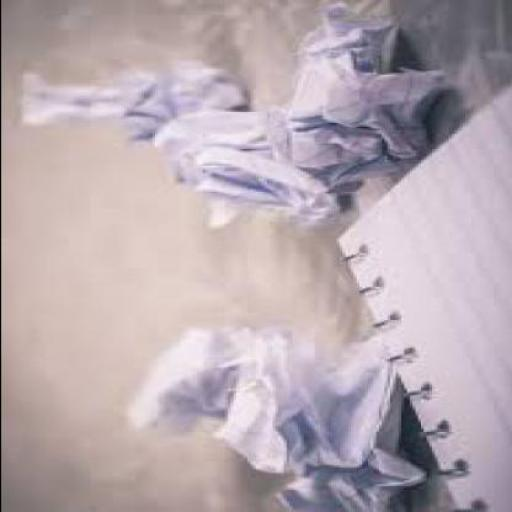paper: (328, 82, 510, 510), (212, 326, 426, 510), (269, 4, 434, 192), (14, 54, 243, 143), (156, 112, 336, 225), (129, 328, 221, 431)
